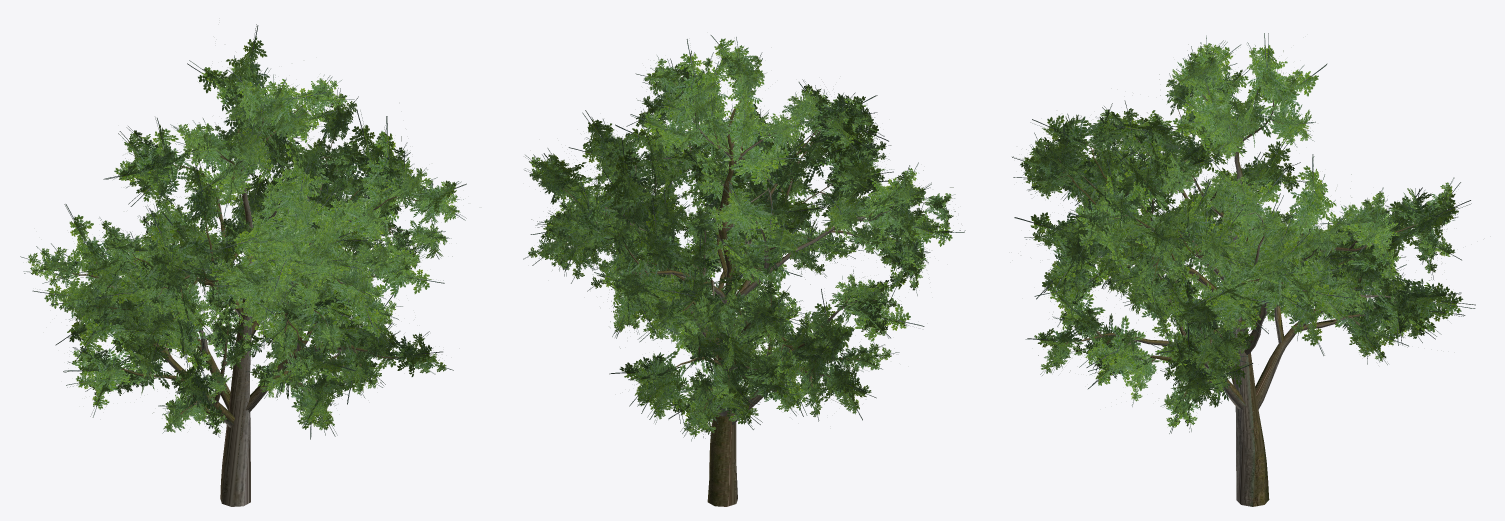
File: ez-ash-large.glb
3 renders of one model, left to right at view 1: azimuth 30°, elevation 25°; view 2: azimuth 150°, elevation 25°; view 3: azimuth 270°, elevation 25°, orthographic. The views are drawn at different scales.
Parts seen in each view (by area): view 1: mid, near; view 2: near, mid; view 3: mid, near.
Part boxes in pixels (bbox=[...]): mid: bbox=[32, 24, 466, 506]; near: bbox=[20, 43, 463, 506]; near: bbox=[523, 43, 955, 506]; mid: bbox=[530, 35, 965, 506]; mid: bbox=[1012, 33, 1475, 506]; near: bbox=[1020, 35, 1456, 506].
Bounding box in the file's own units: 16.27 × 18.52 × 16.87.
Materials: 1 (1 with a texture image).
